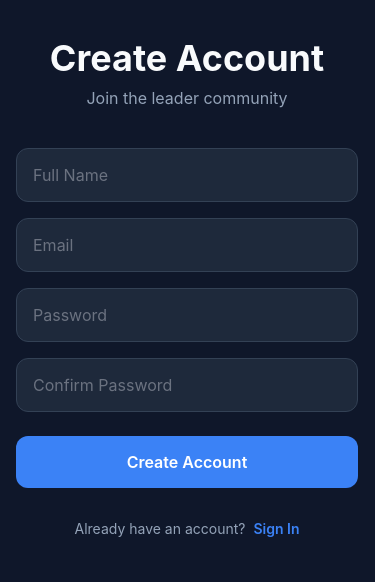
Scenario: SignUpScreen › should show error when submitting empty fields
Click the 2nd text "Create Account".
click(187, 462)  # box x1=127 y1=452 x2=247 y2=472
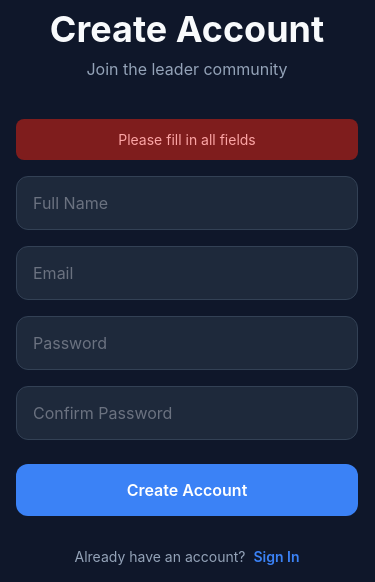
Result: the text "Please fill in all fields" is shown at x1=118 y1=131 x2=256 y2=148
